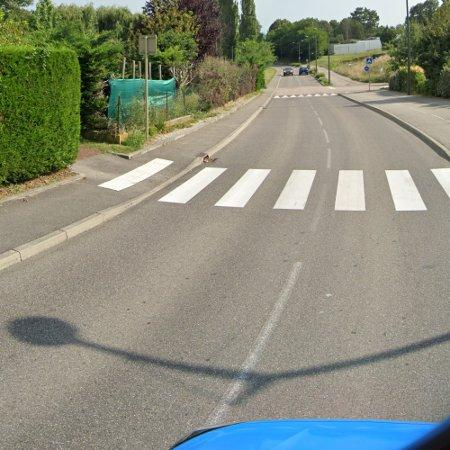crosswalks: (97, 155, 450, 210)
